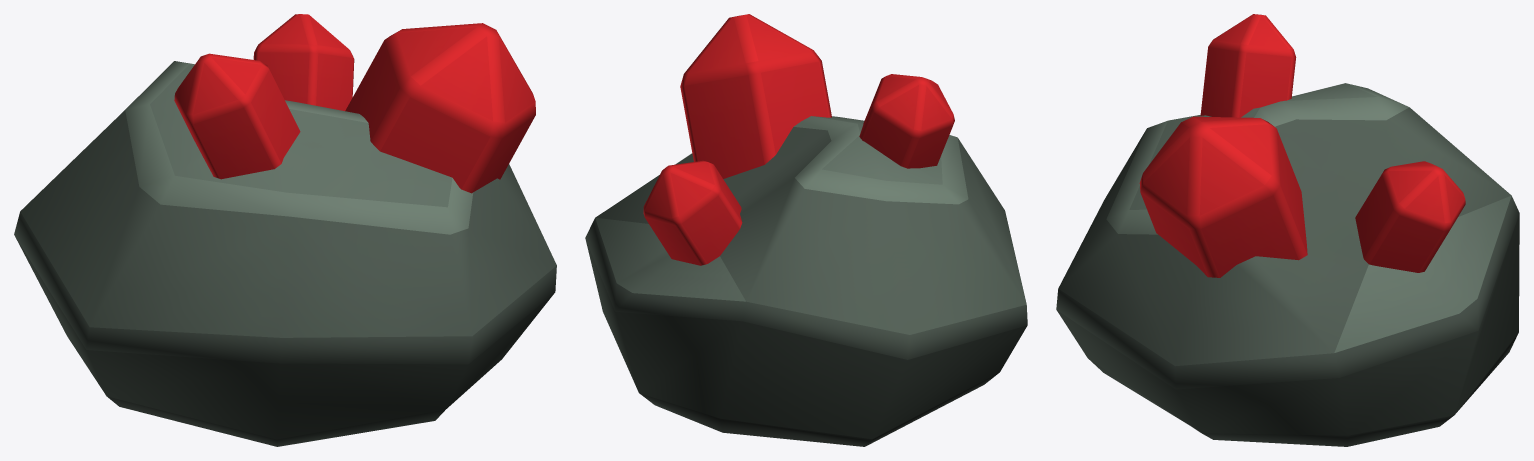
Rendered from ore_christal_ruby_S.fbx.
3 renders of one model, left to right at view 1: azimuth 30°, elevation 25°; view 2: azimuth 150°, elevation 25°; view 3: azimuth 270°, elevation 25°, orthographic. The views are drawn at different scales.
Visible parts, largest first — view 1: ore_christal_ruby_S; view 2: ore_christal_ruby_S; view 3: ore_christal_ruby_S.
Boxes of the visible parts, x1,y1,x2,y2 form: ore_christal_ruby_S: (14, 14, 556, 446); ore_christal_ruby_S: (585, 14, 1027, 446); ore_christal_ruby_S: (1056, 14, 1519, 446).
Size of the model in its own units: 115 by 96.07 by 110.
Materials: 1 (1 with a texture image).
